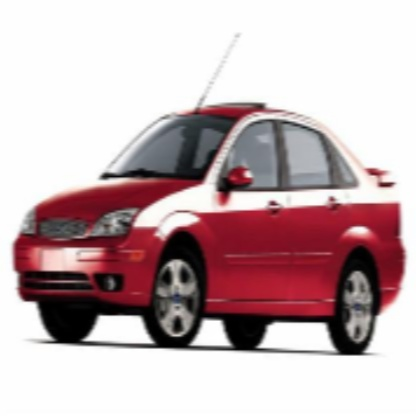Vehicle: (13, 102, 406, 358)
